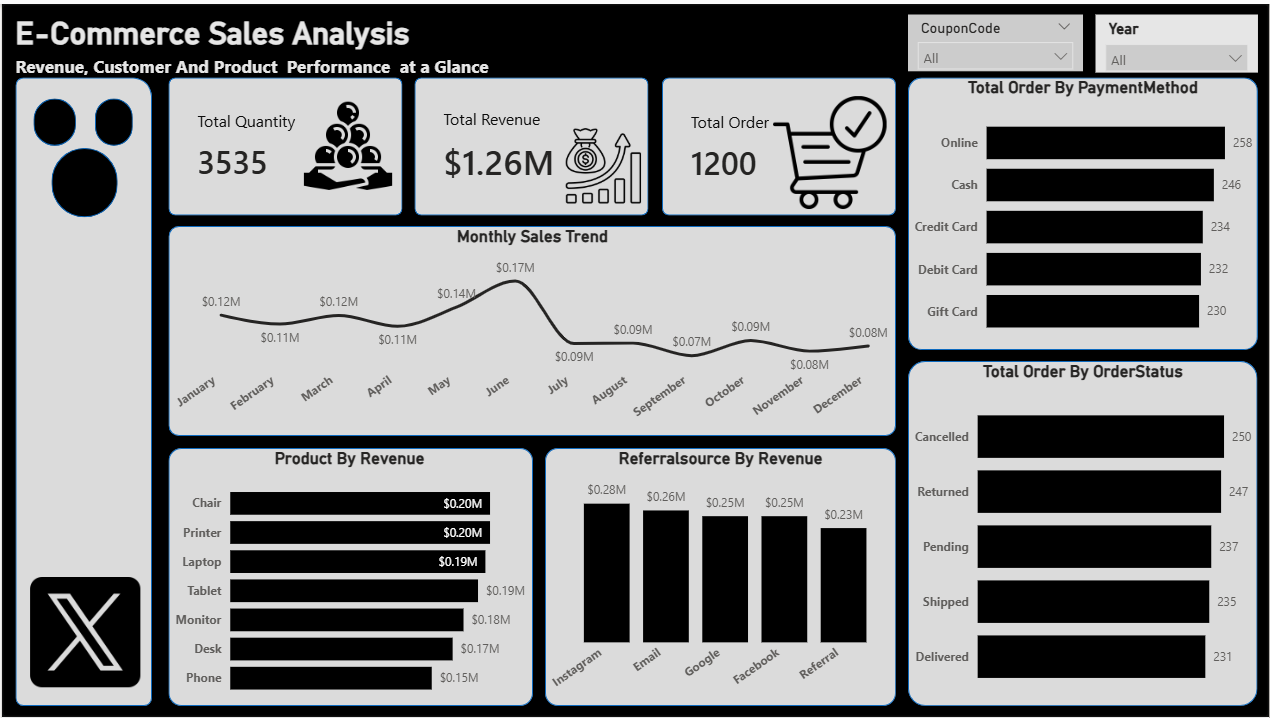

What the dashboard file says about the page in this screenshot:
{"tool":"powerbi","page":{"name":"Page 3","canvas":[1280,720],"ordinal":2},"visuals":[{"type":"shape","box":[13.6,74.2,137.8,634.5],"z":0},{"type":"shape","box":[168.1,74.2,236.2,139.3],"z":1000},{"type":"shape","box":[416.4,74.2,236.2,139.3],"z":2000},{"type":"shape","box":[666.3,74.2,236.2,139.3],"z":3000},{"type":"shape","box":[914.6,74.8,353.1,275.2],"z":4000},{"type":"shape","box":[168.1,224.1,734.4,212],"z":5000},{"type":"shape","box":[168.1,448.2,368,260.4],"z":6000},{"type":"shape","box":[548.1,448.2,354.3,260.4],"z":7000},{"type":"shape","box":[914.6,360.4,352.8,348.3],"z":8000},{"type":"cardVisual","fields":{"Data":["All Measure.Total Revenue"]},"box":[416.7,74.8,235.4,138.4],"z":9000},{"type":"cardVisual","fields":{"Data":["All Measure.Total Order"]},"box":[666.5,74.8,237,140],"z":10000},{"type":"cardVisual","fields":{"Data":["All Measure.QUANTITYSOLD"]},"box":[168.6,74.8,232.2,138.4],"z":11000},{"type":"image","box":[777.8,85.9,114.5,127.2],"z":12000},{"type":"image","box":[561.5,122.5,90.7,81.1],"z":13000},{"type":"image","box":[299,74.8,101.8,138.4],"z":14000},{"type":"image","box":[19.1,579,128.8,111.3],"z":15000},{"type":"lineChart","title":" Monthly Sales  Trend ","fields":{"Category":["Sheet1.Date.Variation.Date Hierarchy.Month"],"Y":["All Measure.Total Revenue"]},"box":[168.6,224.3,734.9,210],"z":16000},{"type":"barChart","title":"Product By Revenue ","fields":{"Category":["Sheet1.Product"],"Y":["All Measure.Total Revenue"]},"box":[168.6,448.6,365.8,260.9],"z":17000},{"type":"barChart","title":"Total Order By PaymentMethod","fields":{"Category":["Sheet1.PaymentMethod"],"Y":["All Measure.Total Order"]},"box":[914.6,74.8,353.1,275.2],"z":18000},{"type":"barChart","title":"Total Order By OrderStatus","fields":{"Category":["Sheet1.OrderStatus"],"Y":["All Measure.Total Order"]},"box":[914.6,361.1,353.1,348.3],"z":19000},{"type":"clusteredColumnChart","title":"Referralsource By Revenue","fields":{"Y":["All Measure.Total Revenue"],"Category":["Sheet1.ReferralSource"]},"box":[548.8,448.6,354.7,260.9],"z":20000},{"type":"shape","title":"E-Commerce Sales Analysis","box":[14.3,11.1,889.2,63.6],"z":21000},{"type":"slicer","fields":{"Values":["Sheet1.Date.Variation.Date Hierarchy.Year"]},"box":[1103.9,11.1,163.8,58.9],"z":22000},{"type":"slicer","fields":{"Values":["Sheet1.CouponCode"]},"box":[914.6,11.1,176.6,57.3],"z":23000},{"type":"shape","box":[31.8,95.4,42.9,47.7],"z":24000},{"type":"shape","box":[49.3,144.7,66.8,70],"z":25000},{"type":"shape","box":[93.8,95.4,38.2,47.7],"z":26000}]}

Visuals, with their boxes in screenshot pixels (x1, y1, x2, y2), scaled from the page's 1280x720 canvas onto the 1270x718 screenshot:
shape: l=13, t=74, r=150, b=707
shape: l=167, t=74, r=401, b=213
shape: l=413, t=74, r=648, b=213
shape: l=661, t=74, r=895, b=213
shape: l=907, t=75, r=1258, b=349
shape: l=167, t=223, r=895, b=435
shape: l=167, t=447, r=532, b=707
shape: l=544, t=447, r=895, b=707
shape: l=907, t=359, r=1257, b=707
cardVisual - All Measure.Total Revenue: l=413, t=75, r=647, b=213
cardVisual - All Measure.Total Order: l=661, t=75, r=896, b=214
cardVisual - All Measure.QUANTITYSOLD: l=167, t=75, r=398, b=213
image: l=772, t=86, r=885, b=213
image: l=557, t=122, r=647, b=203
image: l=297, t=75, r=398, b=213
image: l=19, t=577, r=147, b=688
" Monthly Sales  Trend " lineChart: l=167, t=224, r=896, b=433
"Product By Revenue " barChart: l=167, t=447, r=530, b=708
"Total Order By PaymentMethod" barChart: l=907, t=75, r=1258, b=349
"Total Order By OrderStatus" barChart: l=907, t=360, r=1258, b=707
"Referralsource By Revenue" clusteredColumnChart: l=545, t=447, r=896, b=708
"E-Commerce Sales Analysis" shape: l=14, t=11, r=896, b=74
slicer - Sheet1.Date.Variation.Date Hierarchy.Year: l=1095, t=11, r=1258, b=70
slicer - Sheet1.CouponCode: l=907, t=11, r=1083, b=68
shape: l=32, t=95, r=74, b=143
shape: l=49, t=144, r=115, b=214
shape: l=93, t=95, r=131, b=143
